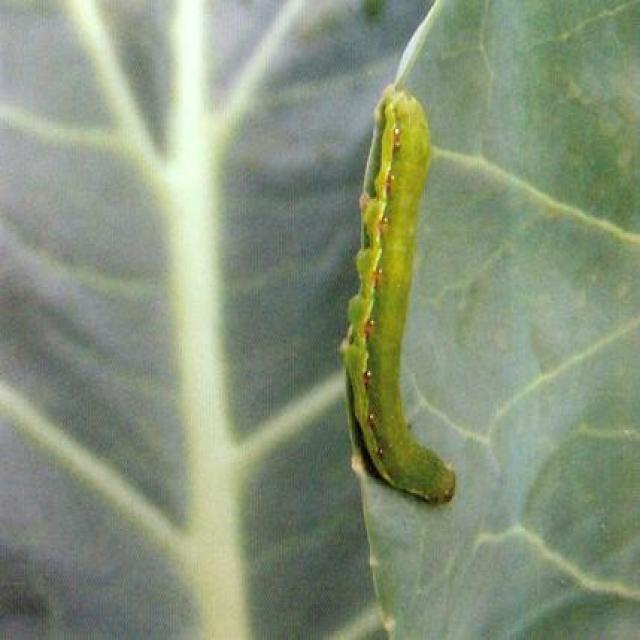BeetArmyWorm-Larva-: (338, 64, 462, 508)
